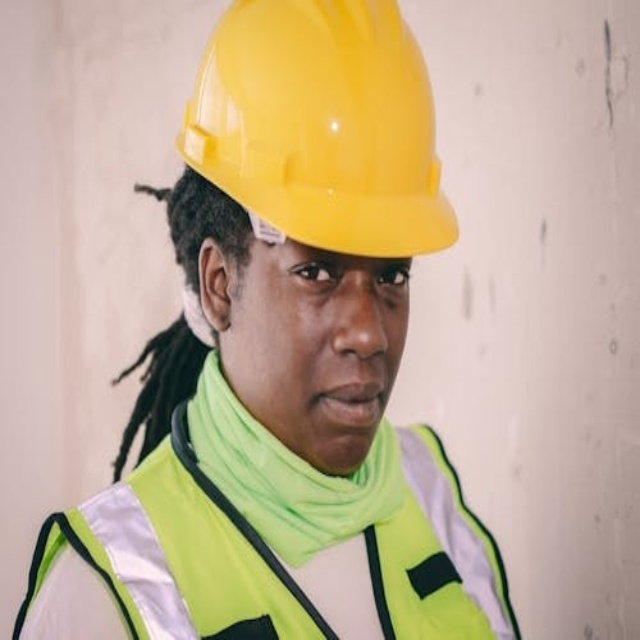Sin_gafas: (265, 239, 422, 324)
Sin_mascara: (293, 372, 394, 449)
